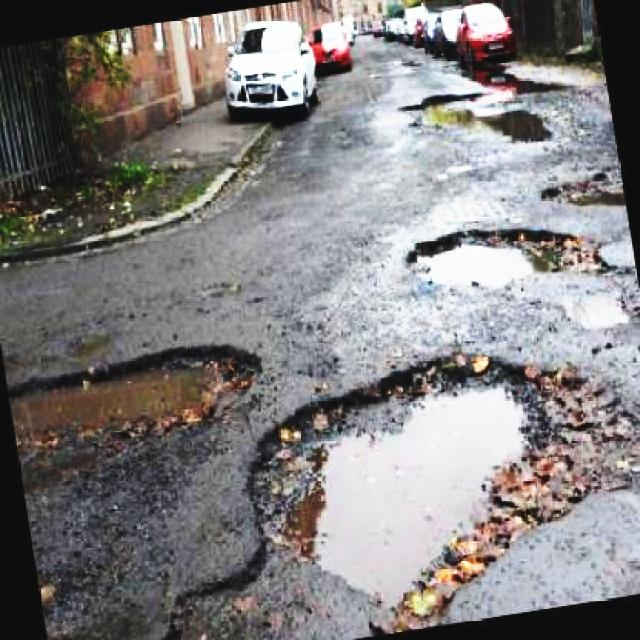pothole: (217, 338, 640, 617), (0, 334, 275, 471), (400, 216, 640, 302), (404, 88, 554, 152)
